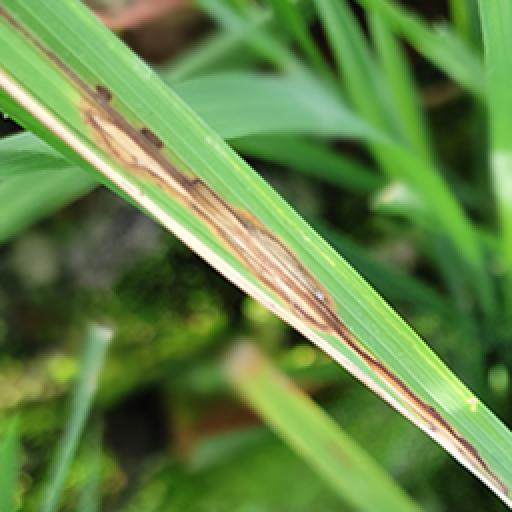Leaf Blast Disease: (6, 10, 510, 504)
